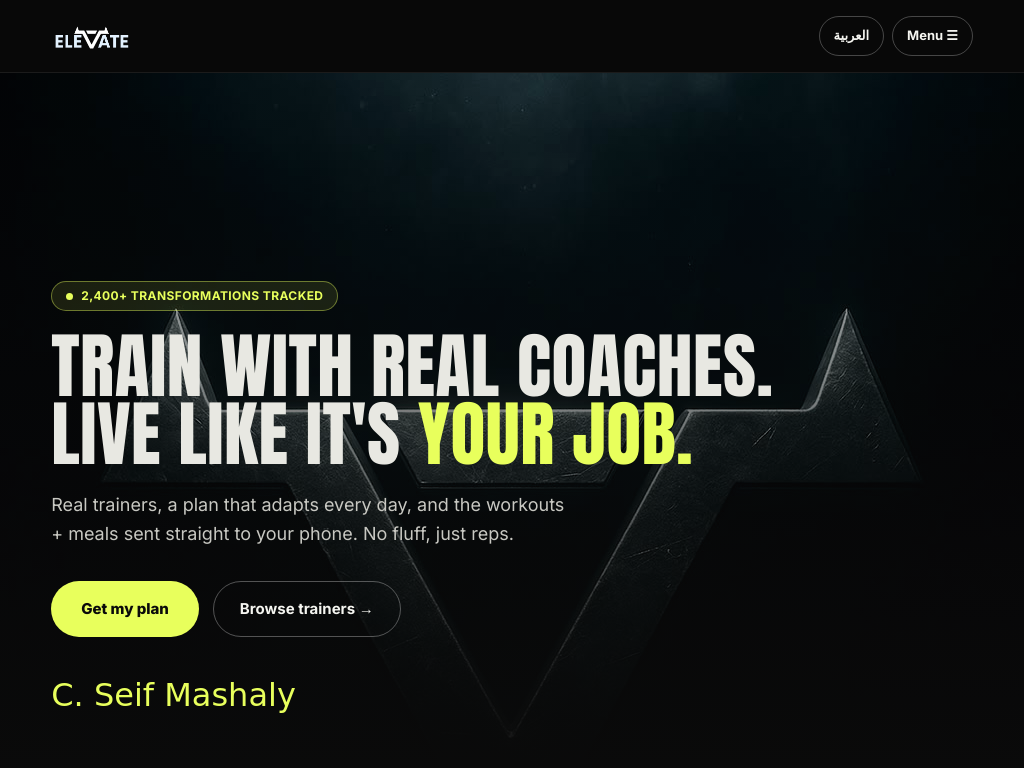
Scenario: HomePage › switches the whole UI to Arabic with RTL direction
Click the button "العربية" at [851, 36], box [818,16,884,56]
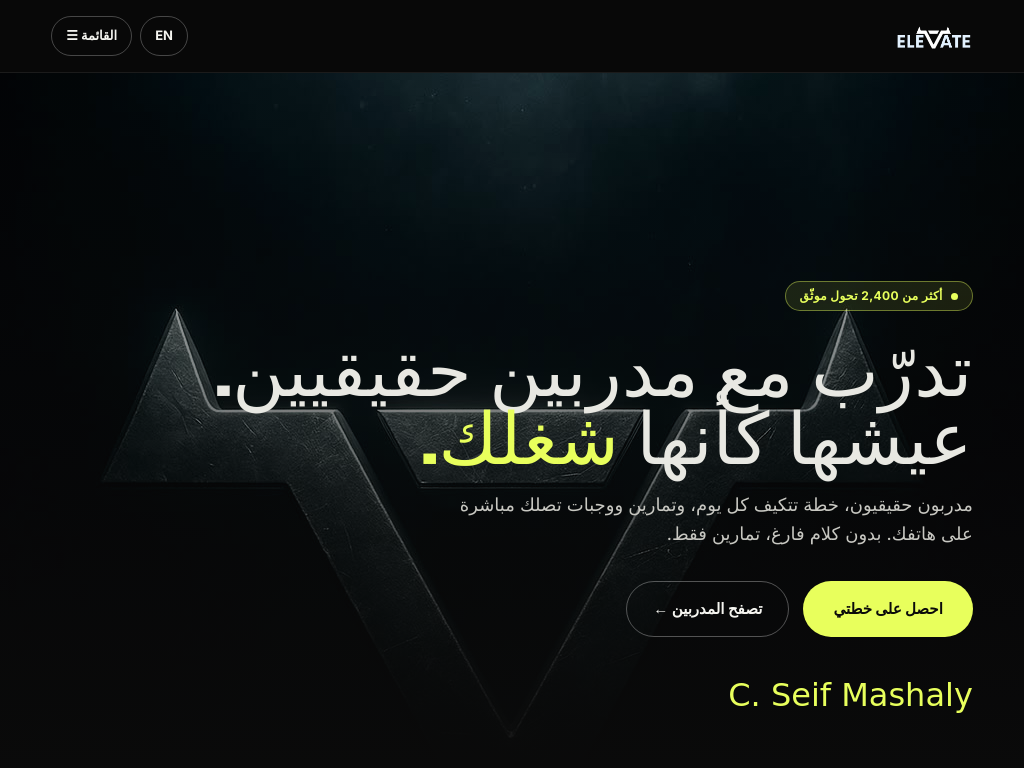
Check: the heading shows "تدرّب مع مدربين حقيقيين.", box [215,312,973,420]
